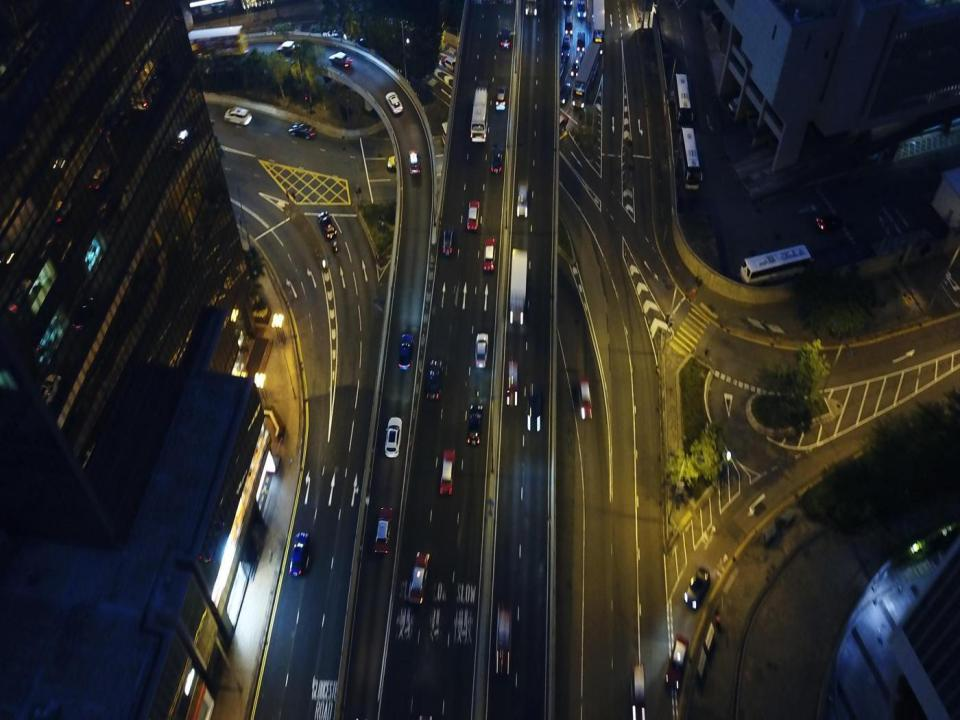bus: (739, 245, 811, 286), (181, 24, 249, 57), (573, 42, 602, 107), (509, 249, 528, 326), (680, 128, 702, 190), (675, 73, 693, 130), (471, 87, 488, 142), (589, 0, 605, 42)
car: (666, 636, 689, 688), (684, 566, 710, 610), (409, 551, 429, 605), (496, 603, 511, 674), (629, 665, 646, 719), (289, 531, 309, 576), (374, 507, 392, 554), (439, 450, 455, 494), (385, 417, 402, 457), (527, 383, 541, 431), (578, 378, 593, 420), (426, 360, 442, 398), (317, 211, 338, 239), (398, 334, 414, 370), (506, 360, 518, 407), (468, 405, 482, 445), (289, 121, 317, 139), (276, 40, 302, 59), (516, 179, 528, 218), (475, 334, 488, 368), (483, 238, 496, 270), (328, 51, 352, 68), (386, 92, 404, 114), (555, 83, 572, 105), (491, 144, 503, 174), (467, 201, 479, 229), (388, 156, 415, 168), (409, 148, 420, 174), (443, 229, 453, 255), (496, 86, 506, 109), (500, 30, 511, 49), (576, 0, 586, 18), (525, 0, 536, 16)
van: (224, 106, 252, 125), (570, 56, 583, 78), (560, 34, 571, 57), (553, 114, 565, 134), (564, 14, 572, 34), (577, 33, 585, 51)
